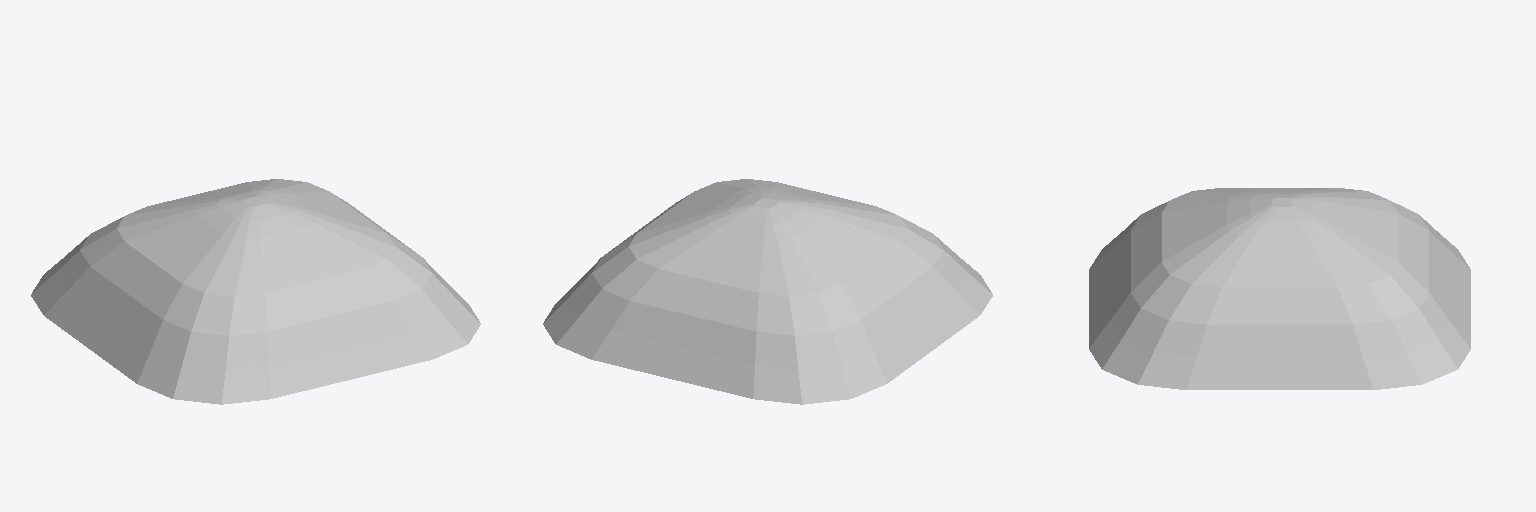
File: dammuso2.obj
The picture shows the model from 3 angles: view 1: azimuth 30°, elevation 25°; view 2: azimuth 150°, elevation 25°; view 3: azimuth 270°, elevation 25°; orthographic projection.
Parts seen in each view (by area): view 1: Cube; view 2: Cube; view 3: Cube.
Part boxes in pixels (left/top/right/bottom): Cube: left=31, top=179, right=480, bottom=404; Cube: left=543, top=179, right=992, bottom=404; Cube: left=1089, top=188, right=1470, bottom=389.
Size of the model in its own units: 7.23 by 2.23 by 7.23.